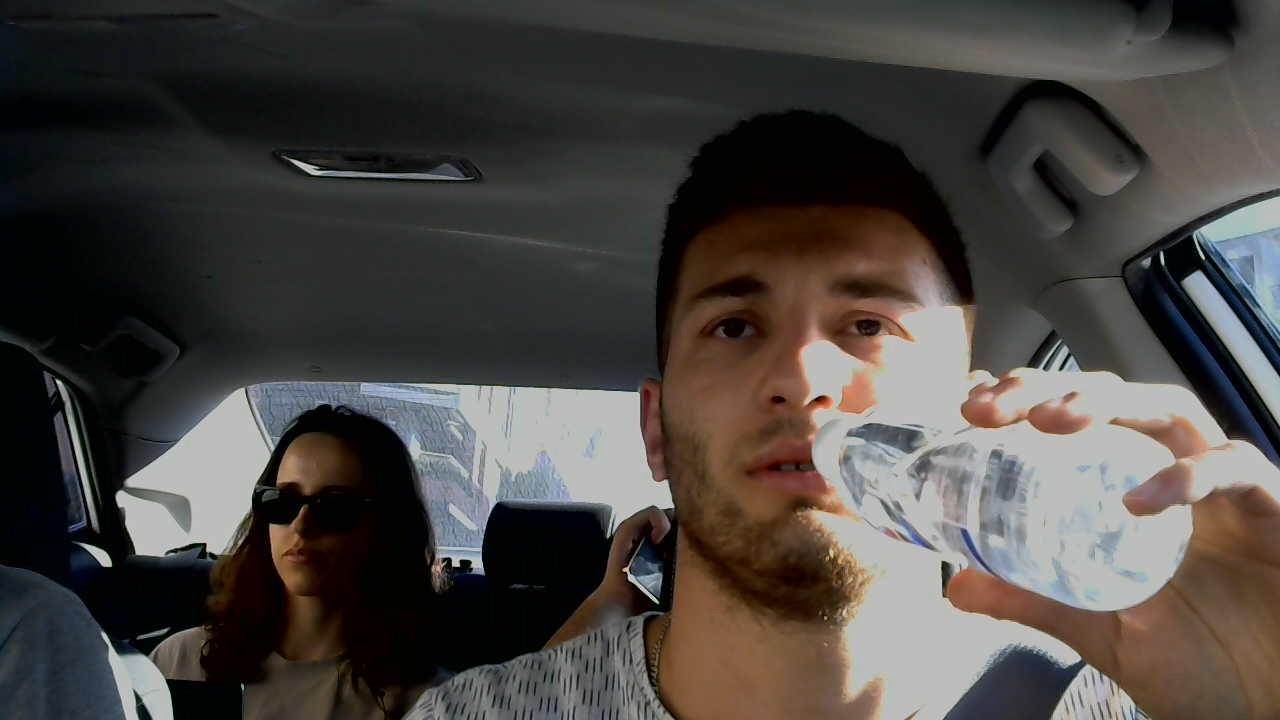Drinking: (640, 203, 1213, 616)
